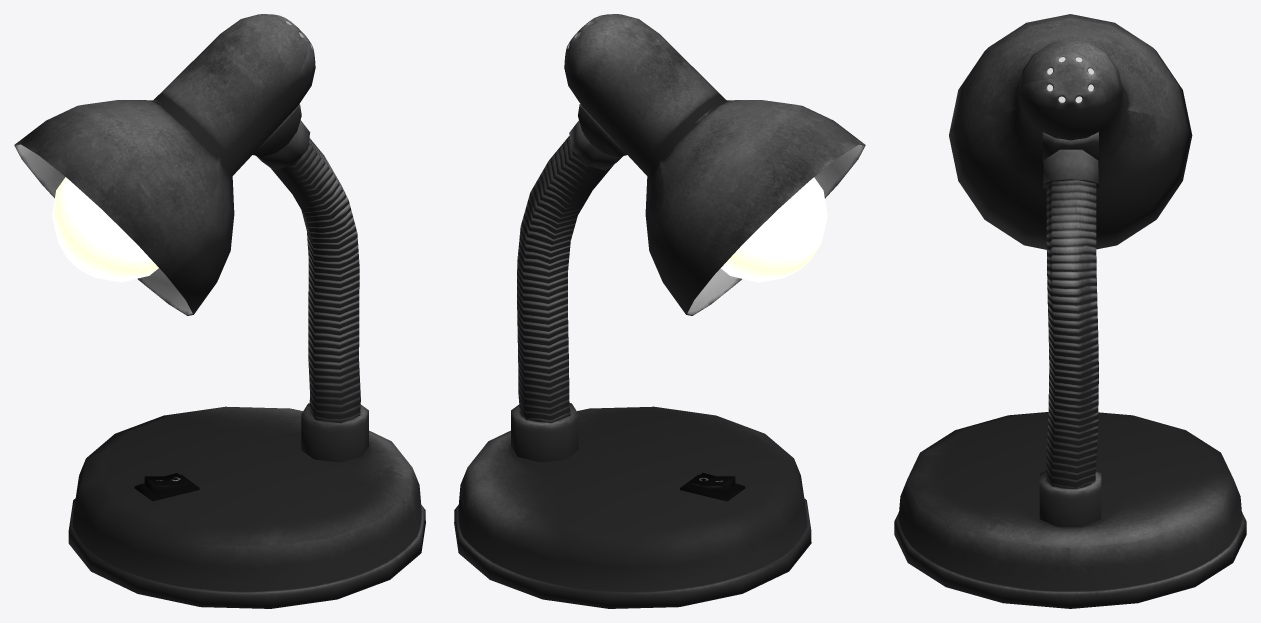
File: lamp.glb
3 views of the same model, side by side, from view 1: azimuth 30°, elevation 25°; view 2: azimuth 150°, elevation 25°; view 3: azimuth 270°, elevation 25° (orthographic). The views are drawn at different scales.
Visible parts, largest first — view 1: Cylinder.056, Cylinder.060, NurbsPath.006, bulb_L.001, Cylinder.057, Cylinder.058, Cylinder.059, Cube.013; view 2: Cylinder.056, Cylinder.060, NurbsPath.006, bulb_L.001, Cylinder.057, Cylinder.058, Cylinder.059, Cube.013; view 3: Cylinder.056, Cylinder.060, NurbsPath.006, Cylinder.057, Cylinder.058, Cylinder.059.
Part boxes in pixels (x1,y1,x2,y2): Cylinder.056: (68, 406, 425, 608); Cylinder.060: (14, 14, 315, 315); NurbsPath.006: (271, 138, 360, 423); bulb_L.001: (52, 177, 158, 282); Cylinder.057: (301, 403, 368, 462); Cylinder.058: (256, 120, 310, 170); Cylinder.059: (253, 104, 301, 156); Cube.013: (144, 473, 190, 493); Cylinder.056: (454, 406, 811, 608); Cylinder.060: (564, 14, 865, 315); NurbsPath.006: (517, 136, 614, 423); bulb_L.001: (721, 177, 827, 282); Cylinder.057: (511, 403, 578, 462); Cylinder.058: (569, 120, 622, 170); Cylinder.059: (578, 104, 626, 157); Cube.013: (689, 473, 735, 493); Cylinder.056: (894, 412, 1246, 608); Cylinder.060: (949, 14, 1192, 249); NurbsPath.006: (1045, 180, 1098, 489); Cylinder.057: (1039, 471, 1101, 526); Cylinder.058: (1043, 149, 1098, 187); Cylinder.059: (1042, 132, 1098, 163).
Size of the model in its own units: 0.1538 by 0.2061 by 0.1319.
2 materials, 2 textured.
